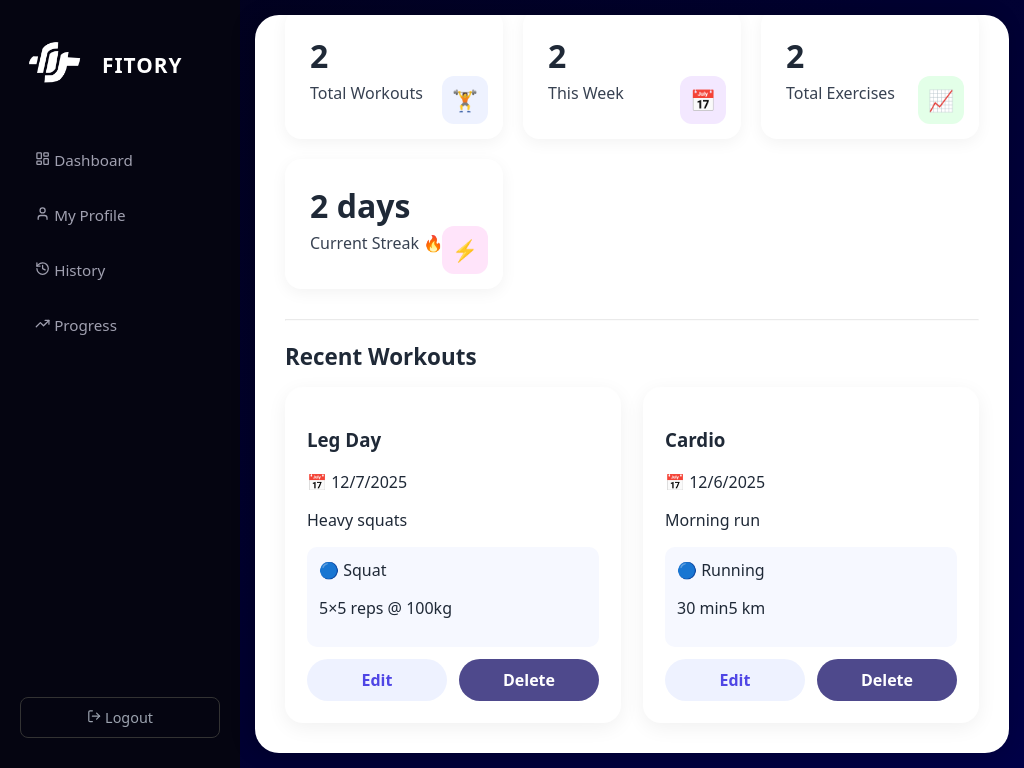
Test case: <Dashboard /> Unit Tests › handles delete interaction correctly
(page scrolled)
Expected: the heading "Leg Day" is shown, top-left (307, 427), bottom-right (381, 452)
# Click Delete button
Click the button "Delete" below "5×5 reps @ 100kg" at (529, 680), box top-left (459, 659), bottom-right (599, 701)
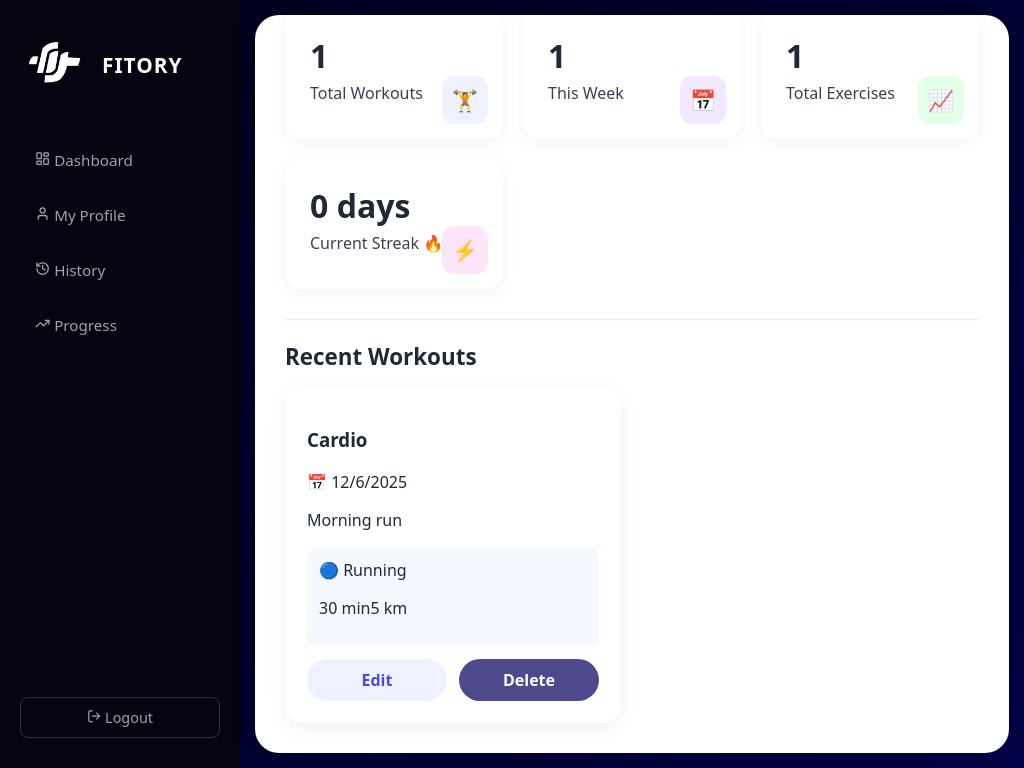
Expected: the heading "Cardio" is shown, top-left (307, 427), bottom-right (368, 452)
Now the heading "Leg Day" is gone
